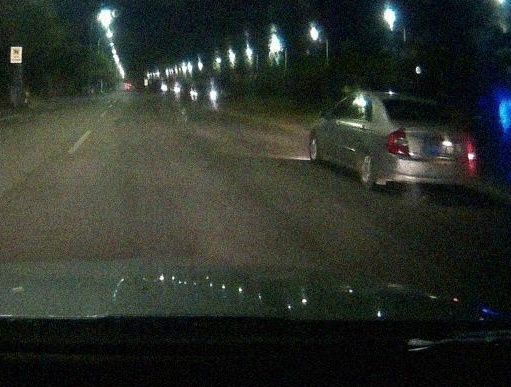L_light: (386, 128, 410, 156)
R_light: (461, 136, 477, 161)
T_light: (411, 101, 423, 105)
night-right: (380, 92, 478, 195)
